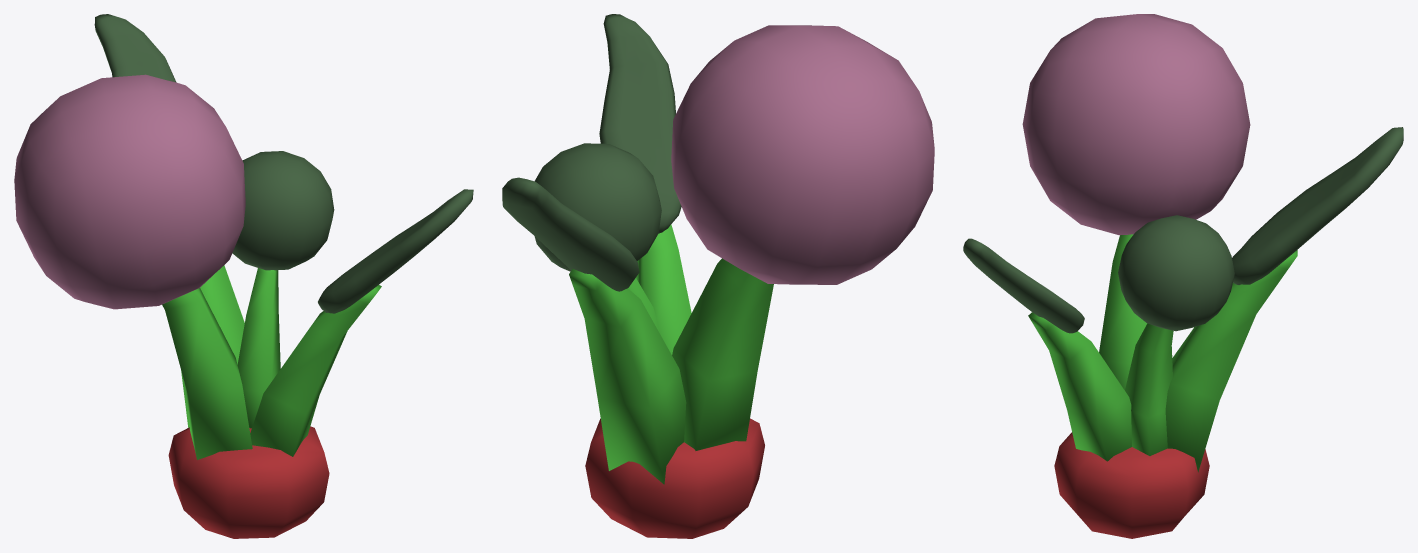
File: Resource_AlientPlant7.fbx
3 renders of one model, left to right at view 1: azimuth 30°, elevation 25°; view 2: azimuth 150°, elevation 25°; view 3: azimuth 270°, elevation 25°, orthographic. The views are drawn at different scales.
Visible parts, largest first — view 1: Resource_AlientPlant7; view 2: Resource_AlientPlant7; view 3: Resource_AlientPlant7.
Boxes of the visible parts, bbox=[...] form: Resource_AlientPlant7: bbox=[14, 14, 473, 538]; Resource_AlientPlant7: bbox=[502, 14, 934, 538]; Resource_AlientPlant7: bbox=[963, 14, 1403, 538].
Size of the model in its own units: 0.5652 by 0.6975 by 0.6201.
